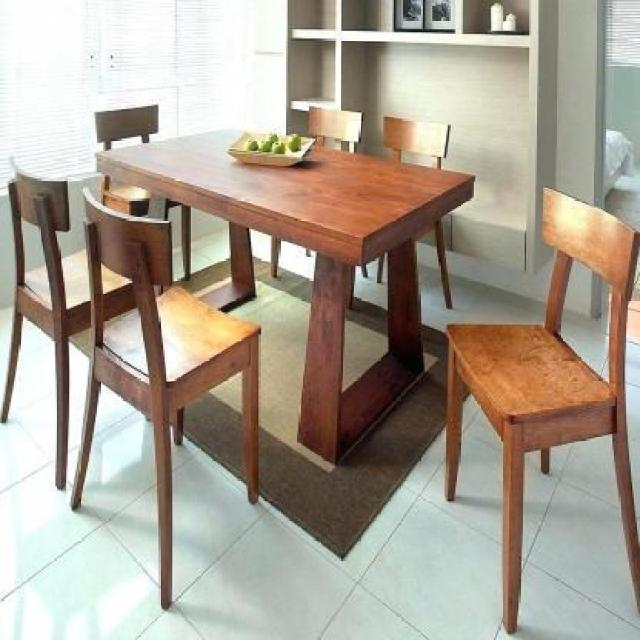tables: (92, 126, 476, 469)
